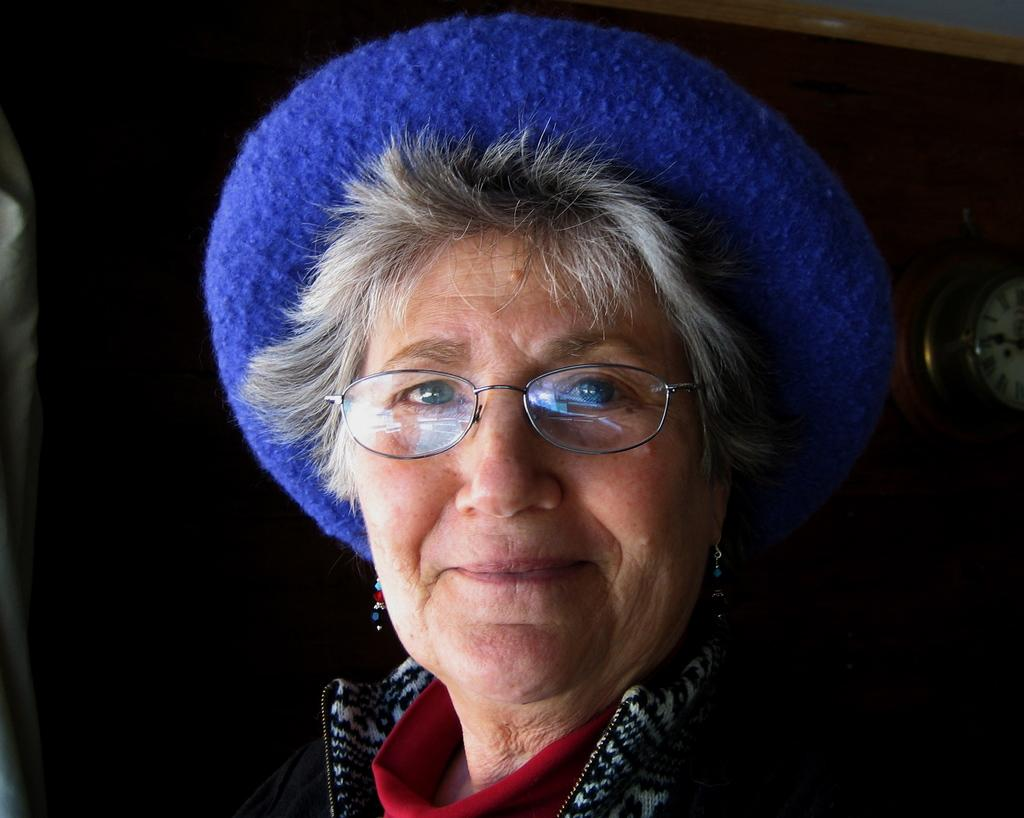Hat: (200, 14, 900, 633)
